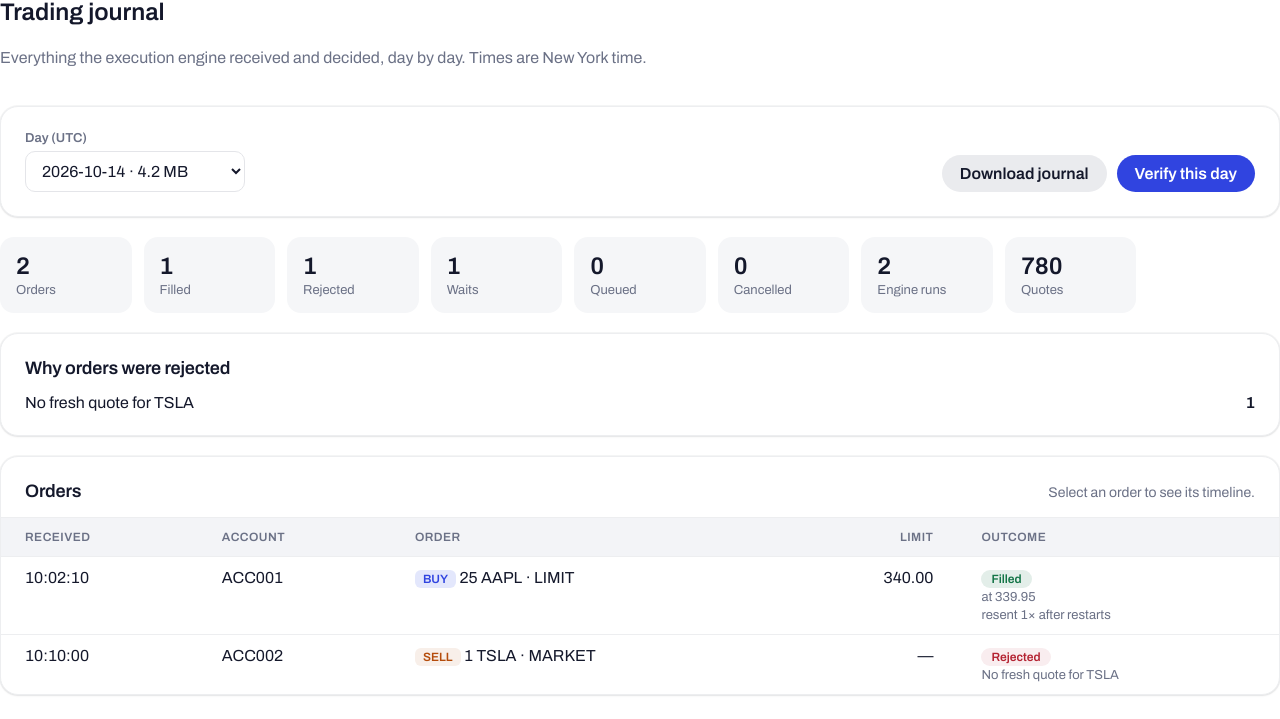
Test: AdminJournalComponent › shows an order timeline with the quote behind each decision
The image size is (1280, 719).
Click the row that starts with "ACC001".
click(640, 596)  # box [1,556,1279,634]
(page scrolled)
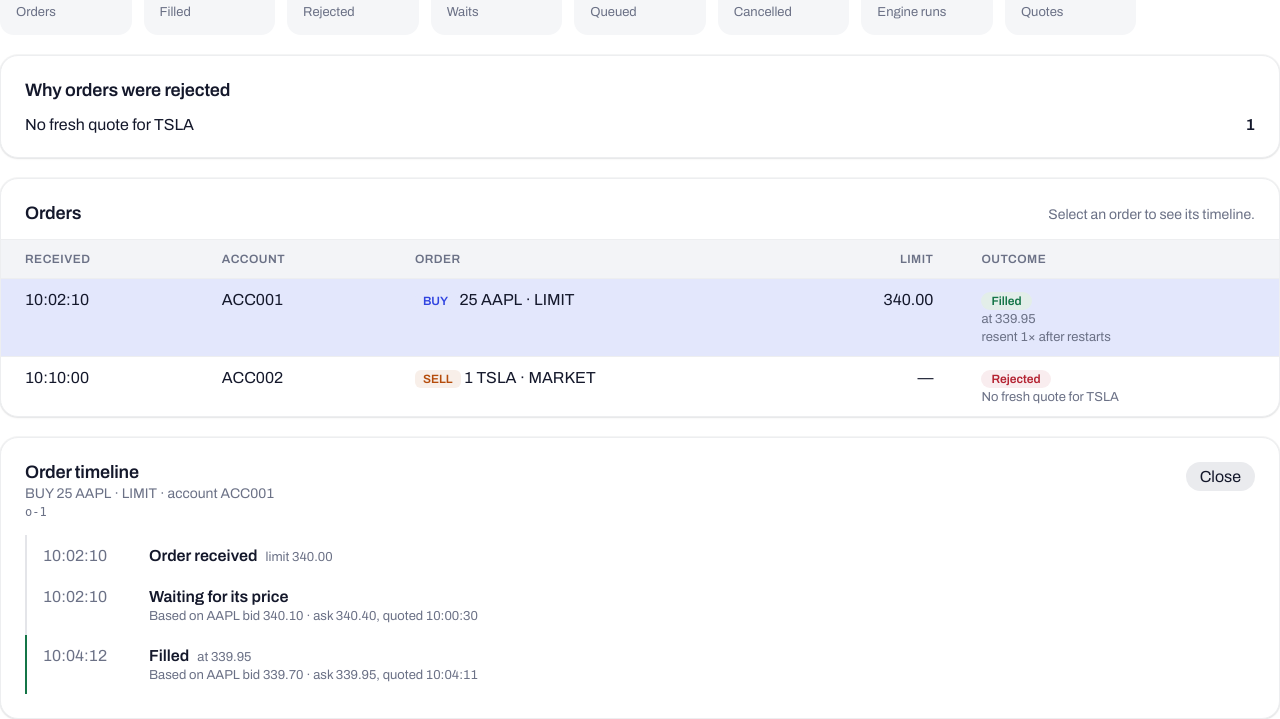
Expected: the list item that starts with "Order received" is shown, [149,547,258,564]
Expected: the list item that starts with "Order received" shows "limit 340.00", [266,550,333,564]
Expected: the list item that starts with "Waiting for its price" is shown, [149,588,288,605]
